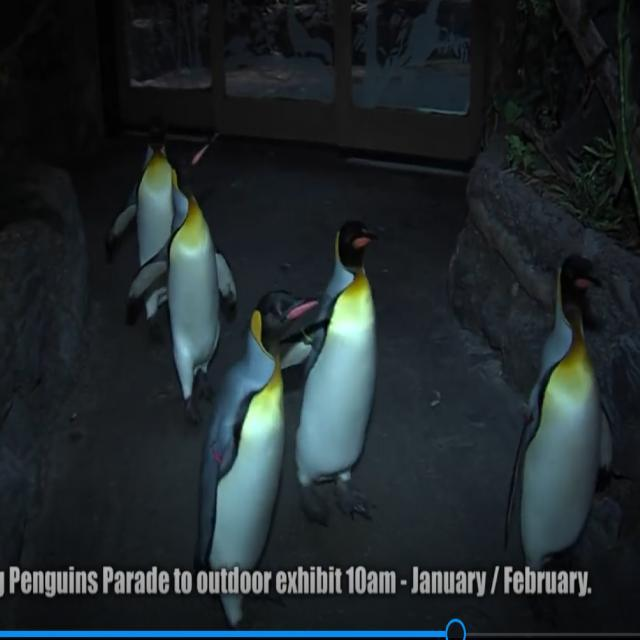Penguin: (522, 232, 624, 598), (200, 290, 316, 602), (298, 186, 382, 534), (130, 139, 234, 415), (112, 113, 182, 339)
